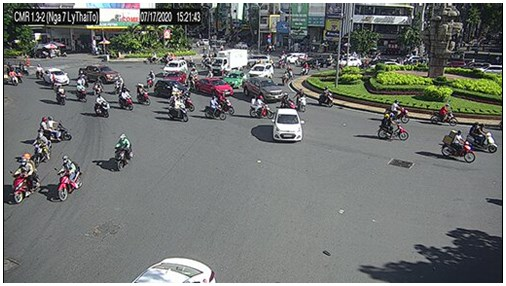xe_ban_tai: (79, 65, 120, 84)
xe_hoi: (271, 108, 302, 143), (195, 79, 233, 96), (156, 81, 191, 98), (223, 70, 246, 88), (45, 68, 69, 85), (247, 63, 274, 78), (303, 57, 332, 69), (370, 61, 404, 71), (158, 71, 188, 82), (281, 53, 308, 64), (335, 57, 362, 67), (473, 65, 503, 74), (164, 60, 186, 72), (248, 55, 270, 64), (402, 55, 421, 63)
xe_may: (10, 152, 41, 203), (57, 155, 82, 203), (442, 130, 475, 164), (468, 122, 498, 155), (38, 116, 72, 142), (377, 113, 408, 140), (115, 133, 133, 170), (249, 94, 274, 120), (34, 131, 52, 167), (169, 92, 188, 123), (431, 104, 457, 126), (204, 96, 227, 120), (386, 100, 409, 123), (94, 92, 110, 119), (218, 92, 236, 116), (117, 87, 134, 111), (317, 86, 333, 109), (137, 81, 151, 106), (180, 90, 195, 112), (52, 83, 66, 106), (280, 91, 296, 111), (76, 81, 87, 103), (296, 89, 306, 112), (115, 75, 125, 95), (142, 52, 158, 64), (9, 68, 19, 86), (78, 72, 90, 87), (93, 76, 104, 92), (36, 63, 45, 80), (147, 69, 155, 88), (298, 63, 309, 76), (283, 69, 290, 84)
xe_tai: (211, 50, 248, 74)
